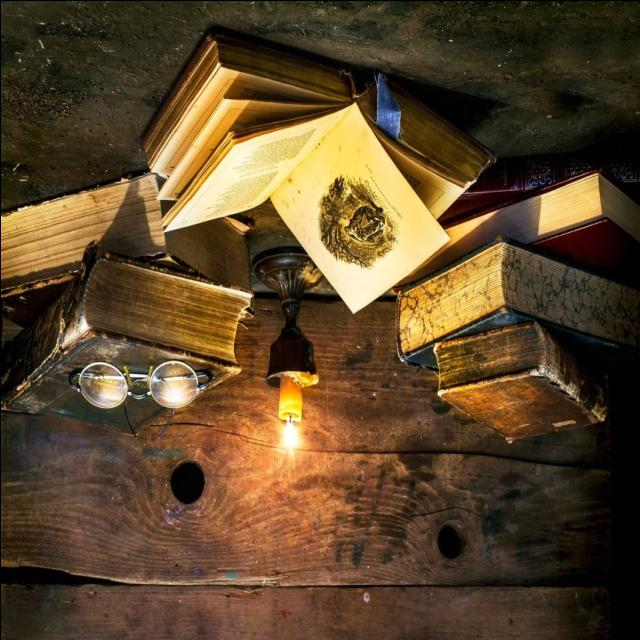book: (118, 25, 474, 331)
